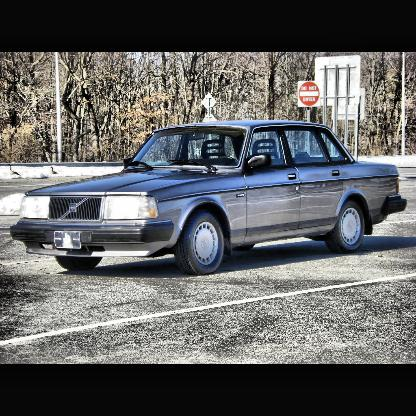Volvo 240 Sedan 1993: (12, 120, 408, 276)
